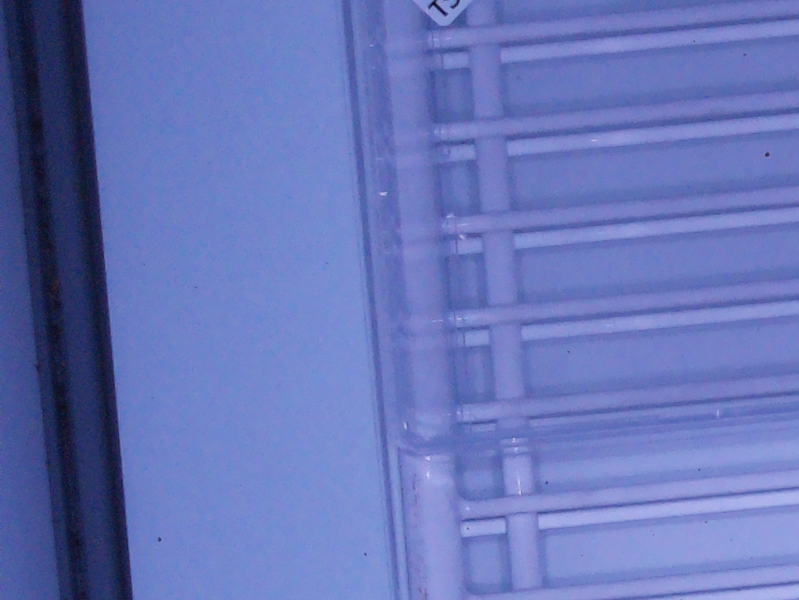plate: (350, 1, 799, 464)
